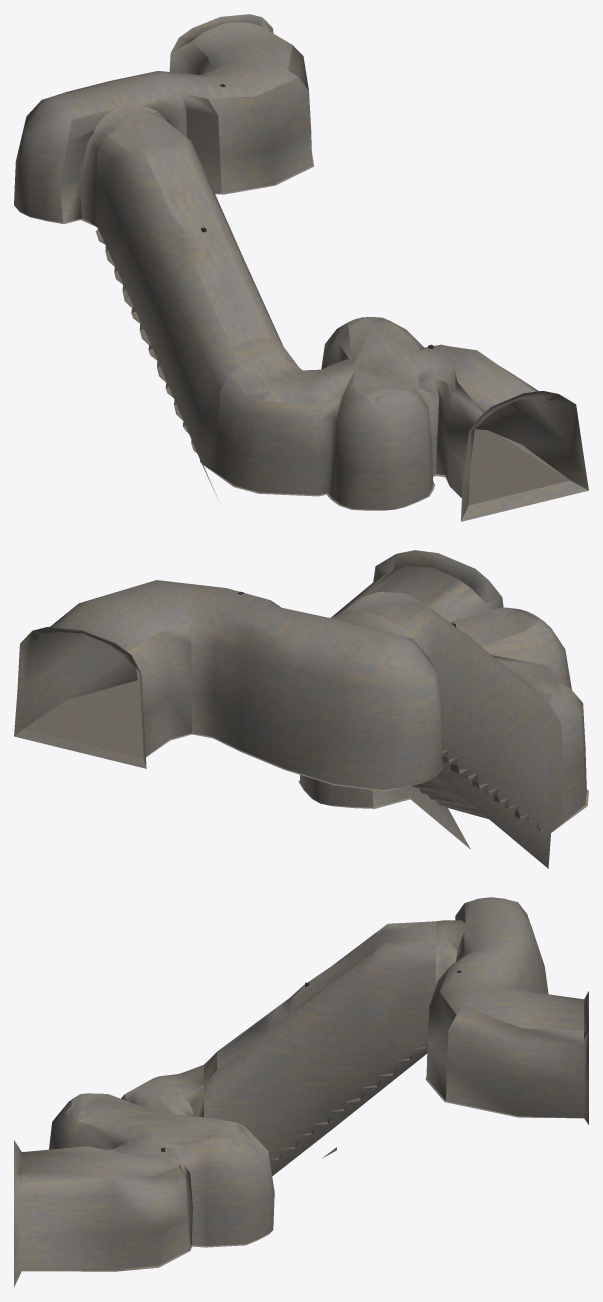
The model's file is R_Tun6.glb.
3 renders of one model, top to bottom at view 1: azimuth 30°, elevation 25°; view 2: azimuth 150°, elevation 25°; view 3: azimuth 270°, elevation 25°, orthographic. The views are drawn at different scales.
Parts seen in each view (by area): view 1: _R_Tun6; view 2: _R_Tun6; view 3: _R_Tun6.
Part boxes in pixels (left/top/right/bottom): _R_Tun6: left=14, top=14, right=588, bottom=521; _R_Tun6: left=14, top=550, right=588, bottom=868; _R_Tun6: left=14, top=897, right=588, bottom=1286.
Size of the model in its own units: 12.48 by 11.31 by 20.46.
Materials: 4 (4 with a texture image).
